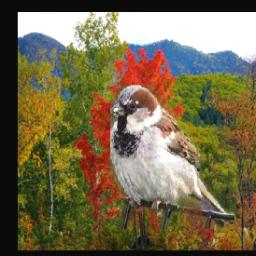Sparrow: (109, 86, 234, 230)
